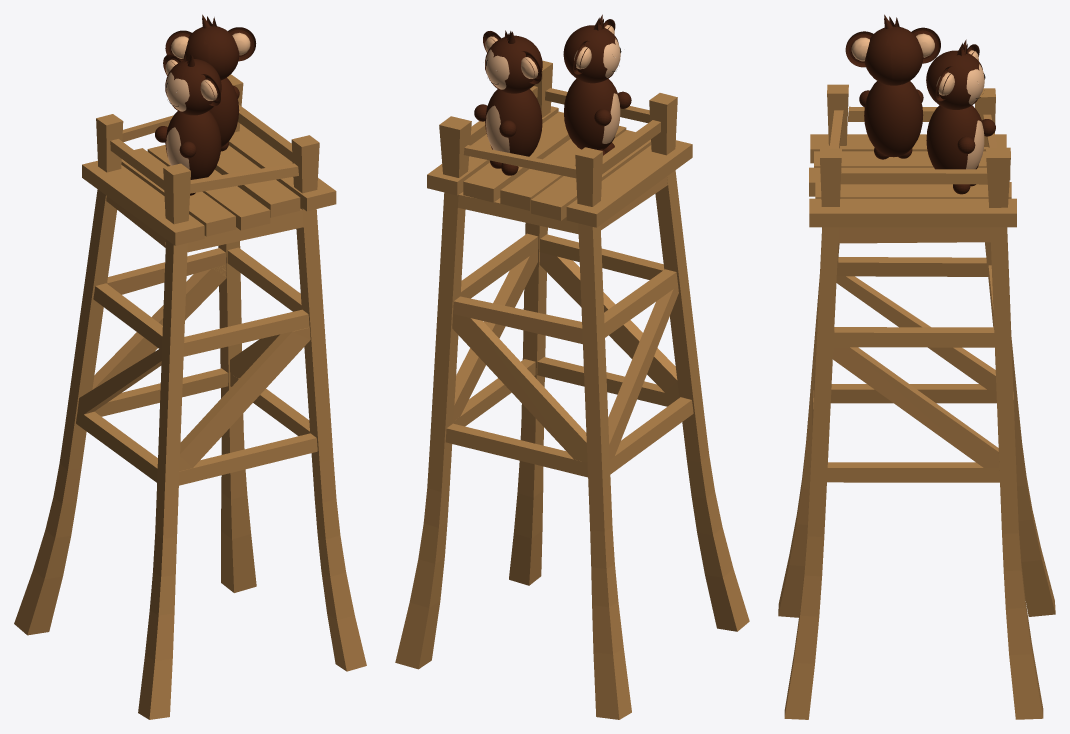
The model's file is normal_defense_tower-2_monkeys.fbx.
The picture shows the model from 3 angles, left to right: view 1: azimuth 30°, elevation 25°; view 2: azimuth 150°, elevation 25°; view 3: azimuth 270°, elevation 25°; orthographic projection. The views are drawn at different scales.
Parts seen in each view (by area): view 1: Cube.038; view 2: Cube.038; view 3: Cube.038.
Part boxes in pixels (x1,y1,x2,y2): Cube.038: (14,14,366,719); Cube.038: (395,14,749,719); Cube.038: (778,14,1055,719).
Size of the model in its own units: 613 by 1589 by 623.
